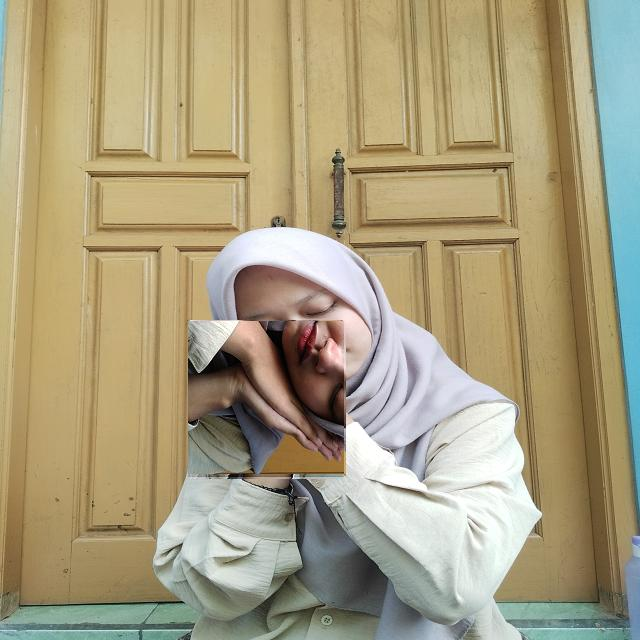tidur: (188, 322, 344, 478)
